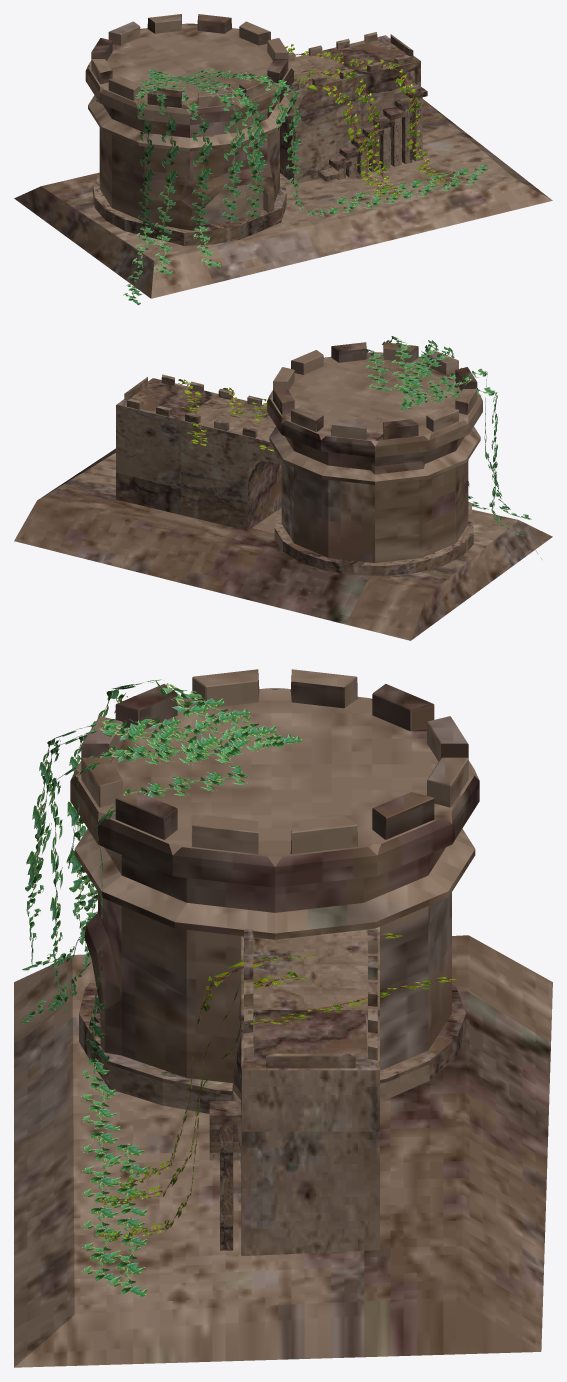
Rendered from temple 5.fbx.
3 views of the same model, one above another, from view 1: azimuth 30°, elevation 25°; view 2: azimuth 150°, elevation 25°; view 3: azimuth 270°, elevation 25° (orthographic). The views are drawn at different scales.
Parts seen in each view (by area): view 1: temple_5, vine_53, vine_26, vine_33, vine_28, vine_30, vine_34, vine_36, vine_35, vine_29, vine_31, vine_54 (+1 smaller); view 2: temple_5, vine_28, vine_33, vine_32, vine_31, vine_34, vine_53, vine_30, vine_26; view 3: temple_5, vine_53, vine_26, vine_30, vine_54, vine_33, vine_31, vine_29, vine_34, vine_32, vine_35, vine_28 (+1 smaller).
Boxes of the visible parts, x1,y1,x2,y2 form: temple_5: (14,14,552,298); vine_53: (193,68,480,216); vine_26: (151,73,220,267); vine_33: (148,71,178,274); vine_28: (123,69,166,305); vine_30: (168,76,244,221); vine_34: (285,44,446,183); vine_36: (306,68,402,197); vine_35: (293,73,385,195); vine_29: (171,77,266,218); vine_31: (170,76,263,167); vine_54: (336,164,488,204); temple_5: (14,342,552,640); vine_28: (400,387,542,559); vine_33: (401,368,531,519); vine_32: (382,336,416,392); vine_31: (397,340,438,394); vine_34: (178,379,207,445); vine_53: (363,349,391,391); vine_30: (399,346,468,460); vine_26: (401,367,488,509); temple_5: (14,669,552,1367); vine_53: (81,766,248,1282); vine_26: (21,717,282,1024); vine_30: (25,718,247,965); vine_54: (108,1143,147,1296); vine_33: (22,679,294,970); vine_31: (27,725,239,887); vine_29: (50,745,236,1013); vine_34: (99,977,457,1240); vine_32: (68,743,234,868); vine_35: (119,933,402,1188); vine_28: (133,690,302,748).
Size of the model in its own units: 60.08 by 26.83 by 34.5.
